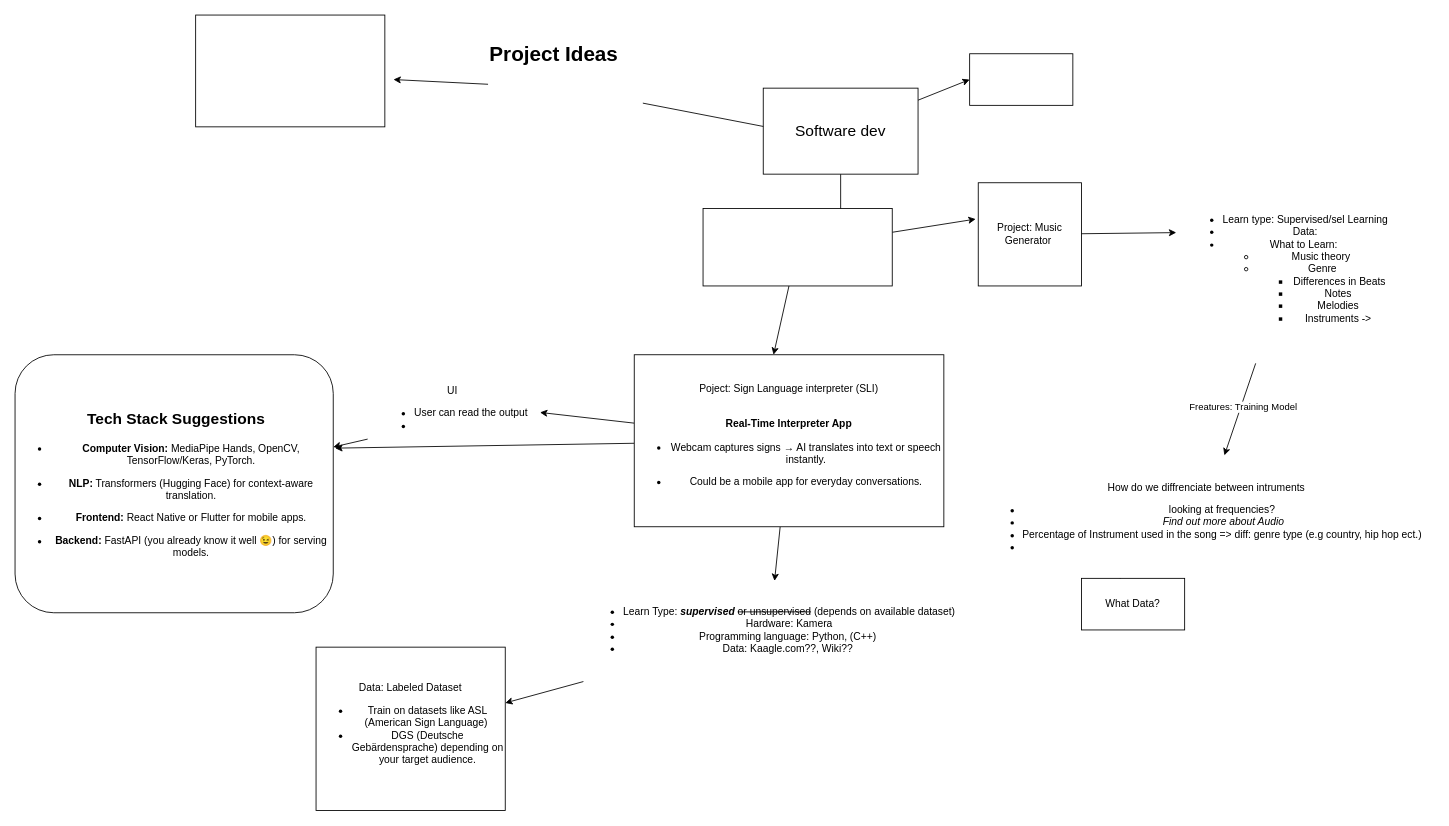
Some shapes in this 1449 by 826 pixel diagram are drawn without their labels. The shapes that lost their labels are listed below. From the top down, each one's centre as x and y in pixels, then its label:
At point 290,70: "Hardware".
At point 1021,79: "Applications".
At point 797,247: "Artificial Intelligence /Machine Learning".
